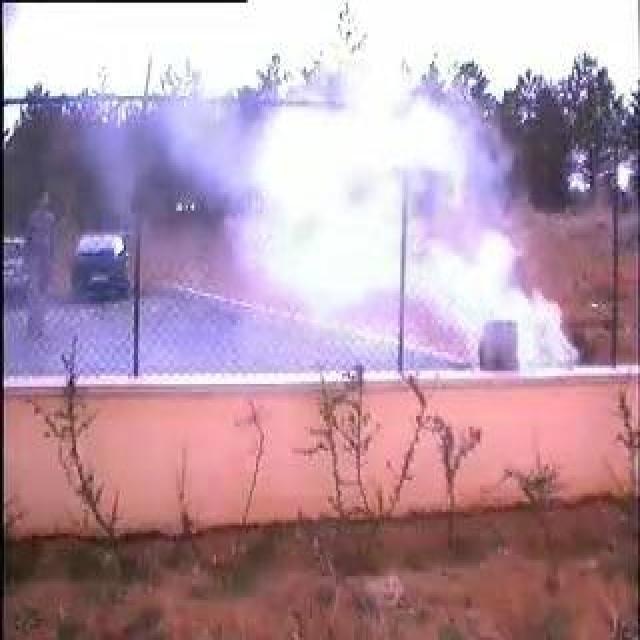Smoke: (103, 110, 573, 367)
